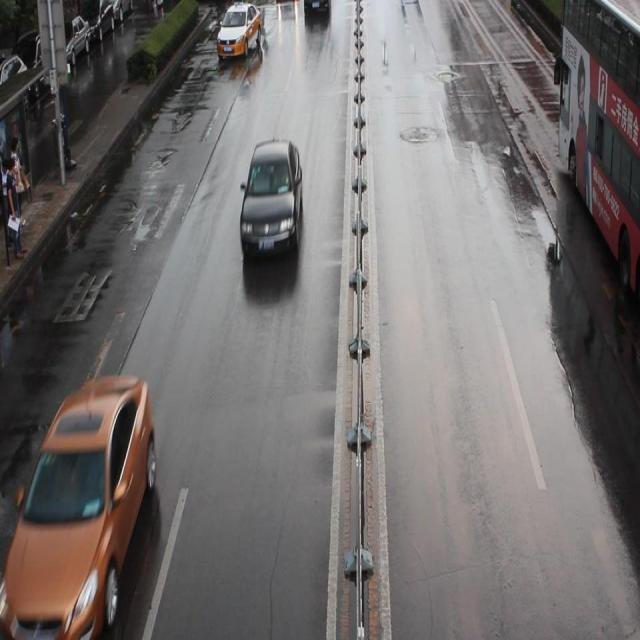car: (0, 372, 156, 640), (239, 138, 302, 254), (216, 1, 262, 57), (303, 2, 330, 15)
van: (556, 1, 640, 307)
